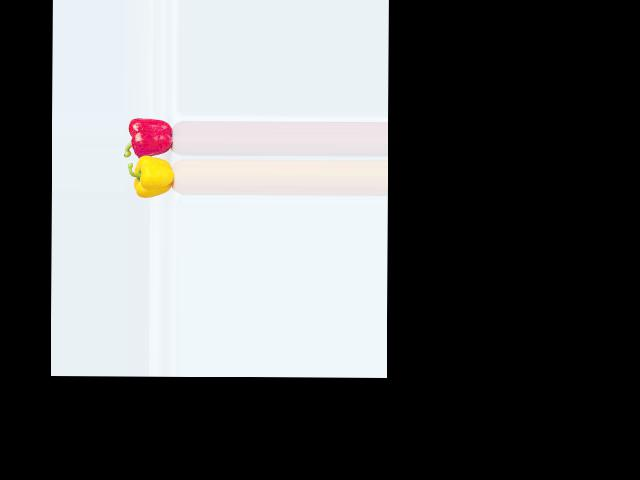bell_pepper: (125, 114, 177, 159)
